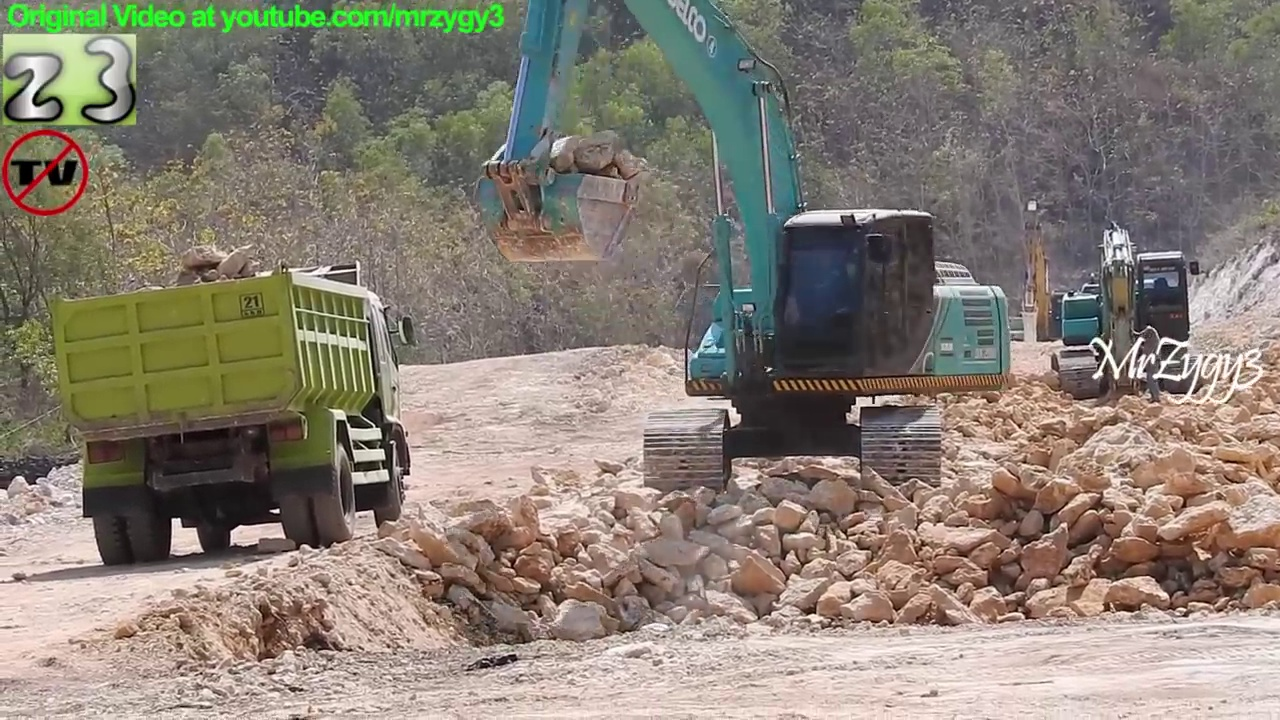excavator: (465, 1, 1019, 503), (998, 192, 1082, 362)
excavator breaker: (1046, 210, 1210, 417)
truck: (43, 255, 420, 572)
worker: (1127, 309, 1174, 403)
